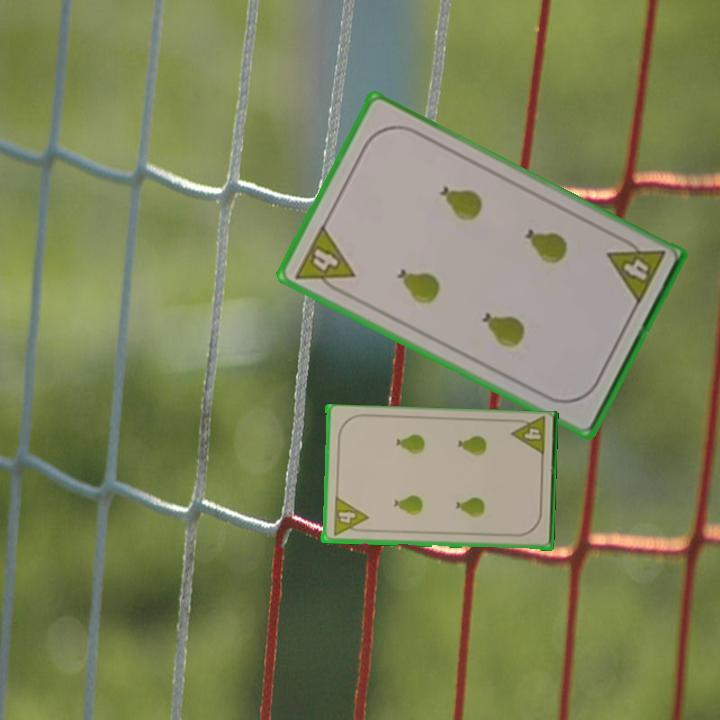4p: (290, 221, 358, 299), (603, 232, 668, 308), (329, 494, 370, 539), (507, 415, 548, 460)
